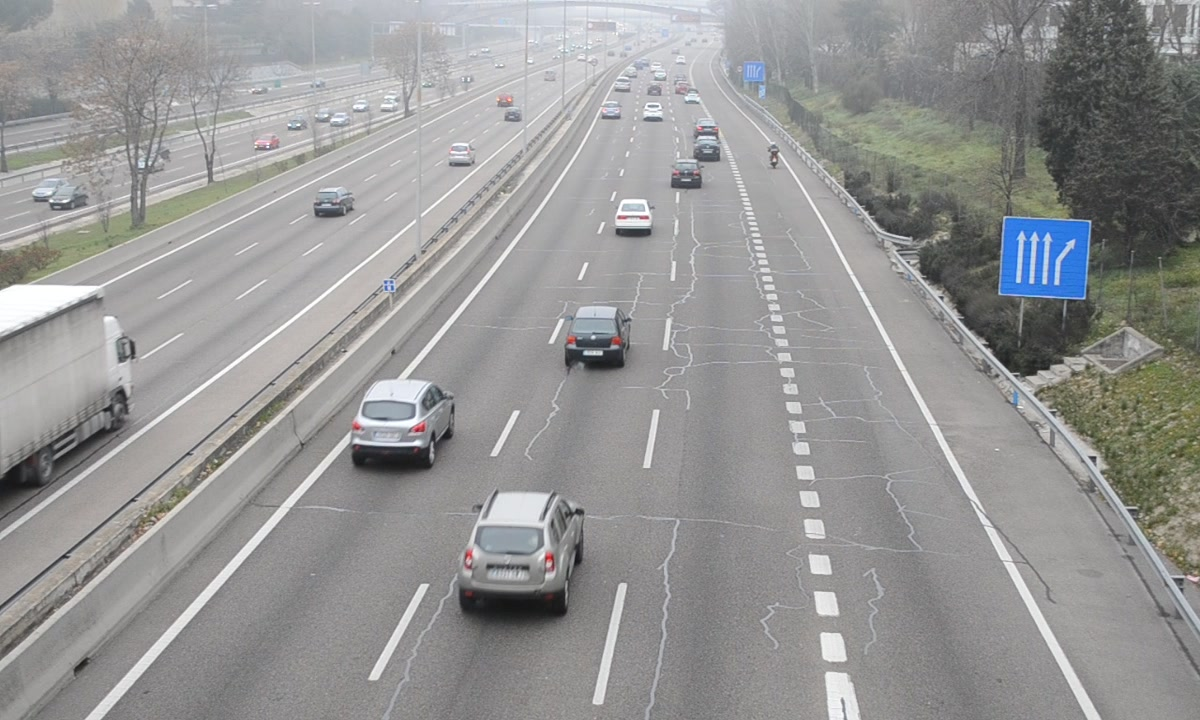car: (459, 491, 586, 595), (353, 380, 456, 449), (565, 306, 630, 362), (614, 198, 653, 233), (670, 159, 704, 189), (694, 136, 723, 160), (695, 118, 722, 139)
motorcycle: (768, 143, 782, 170)
